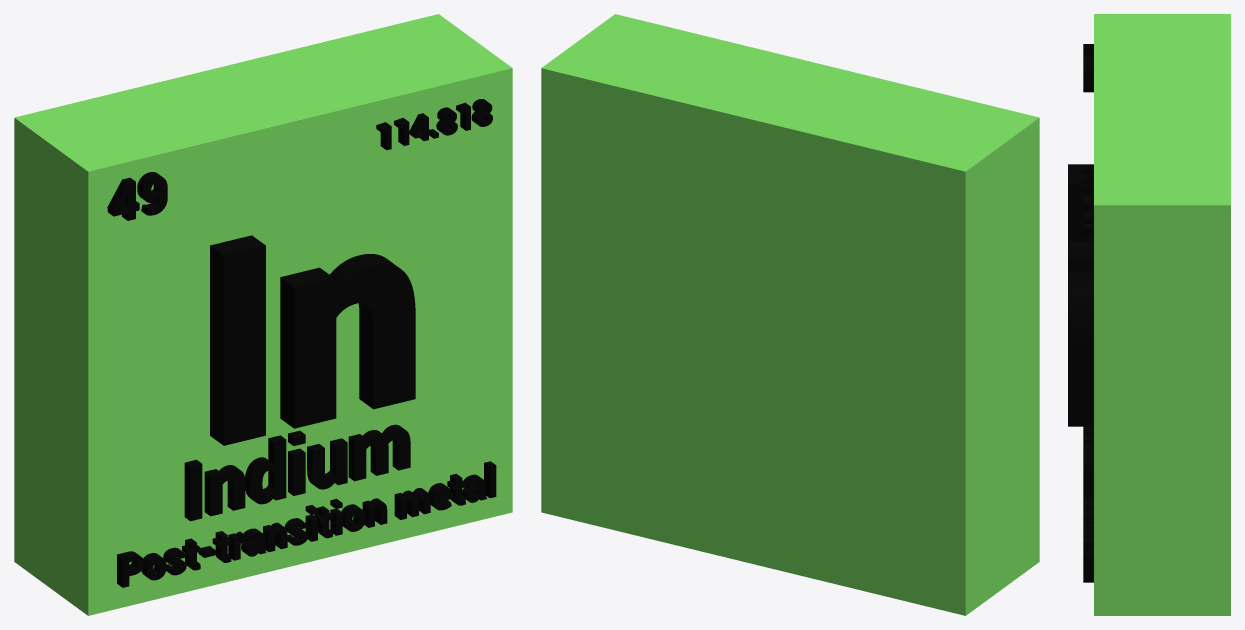
The picture shows the model from 3 angles, left to right: view 1: azimuth 30°, elevation 25°; view 2: azimuth 150°, elevation 25°; view 3: azimuth 270°, elevation 25°; orthographic projection. The views are drawn at different scales.
Visible parts, largest first — view 1: Cube, Text, Text.001, Text.002, Text.004, Text.003; view 2: Cube; view 3: Cube, Text, Text.002, Text.001, Text.004, Text.003.
Boxes of the visible parts, x1=… form: Cube: x1=14, y1=14, x2=512, y2=615; Text: x1=210, y1=235, x2=415, y2=445; Text.001: x1=184, y1=424, x2=410, y2=521; Text.002: x1=117, y1=461, x2=496, y2=587; Text.004: x1=376, y1=99, x2=492, y2=150; Text.003: x1=107, y1=172, x2=167, y2=220; Cube: x1=541, y1=14, x2=1039, y2=615; Cube: x1=1094, y1=14, x2=1230, y2=615; Text: x1=1068, y1=164, x2=1093, y2=426; Text.002: x1=1083, y1=497, x2=1093, y2=582; Text.001: x1=1083, y1=426, x2=1093, y2=497; Text.004: x1=1083, y1=166, x2=1093, y2=234; Text.003: x1=1083, y1=44, x2=1093, y2=92.
Bounding box in the file's own units: 178 × 178 × 63.95.
